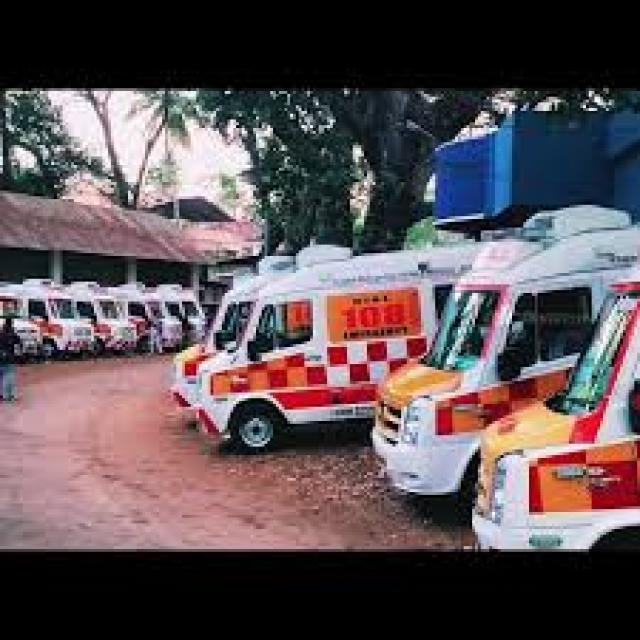ambulance: (373, 204, 598, 407), (503, 285, 640, 592), (206, 263, 472, 365), (0, 274, 90, 372), (67, 278, 134, 364), (123, 278, 181, 351), (158, 281, 208, 340)
